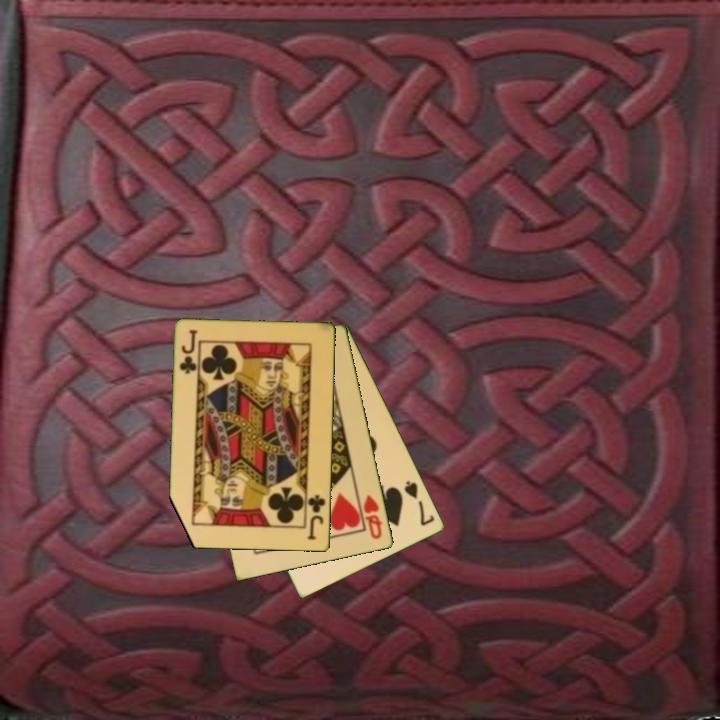7s: (401, 477, 438, 529)
Jc: (305, 492, 329, 543), (176, 326, 200, 377)
Qh: (360, 491, 385, 542)
